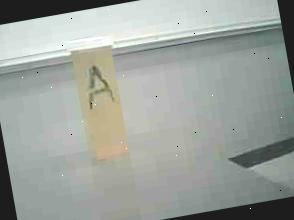Bottle A: (55, 25, 144, 174)
